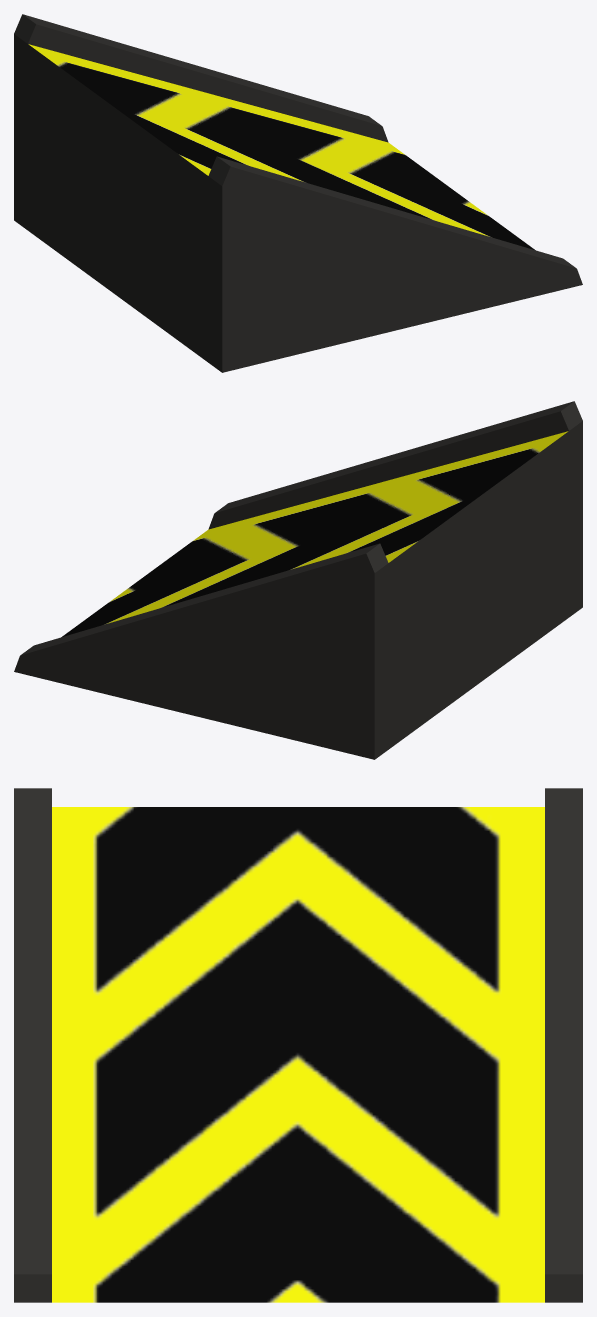
File: Gravity Ramp.fbx
The picture shows the model from 3 angles, top to bottom: view 1: azimuth 30°, elevation 25°; view 2: azimuth 150°, elevation 25°; view 3: azimuth 270°, elevation 25°; orthographic projection. The views are drawn at different scales.
Visible parts, largest first — view 1: Gravity Ramp; view 2: Gravity Ramp; view 3: Gravity Ramp.
Part boxes in pixels (x1=…): Gravity Ramp: x1=14, y1=14, x2=582, y2=372; Gravity Ramp: x1=14, y1=401, x2=582, y2=759; Gravity Ramp: x1=14, y1=788, x2=582, y2=1302.
Bounding box in the file's own units: 200 × 108 × 200.
2 materials, 1 textured.
